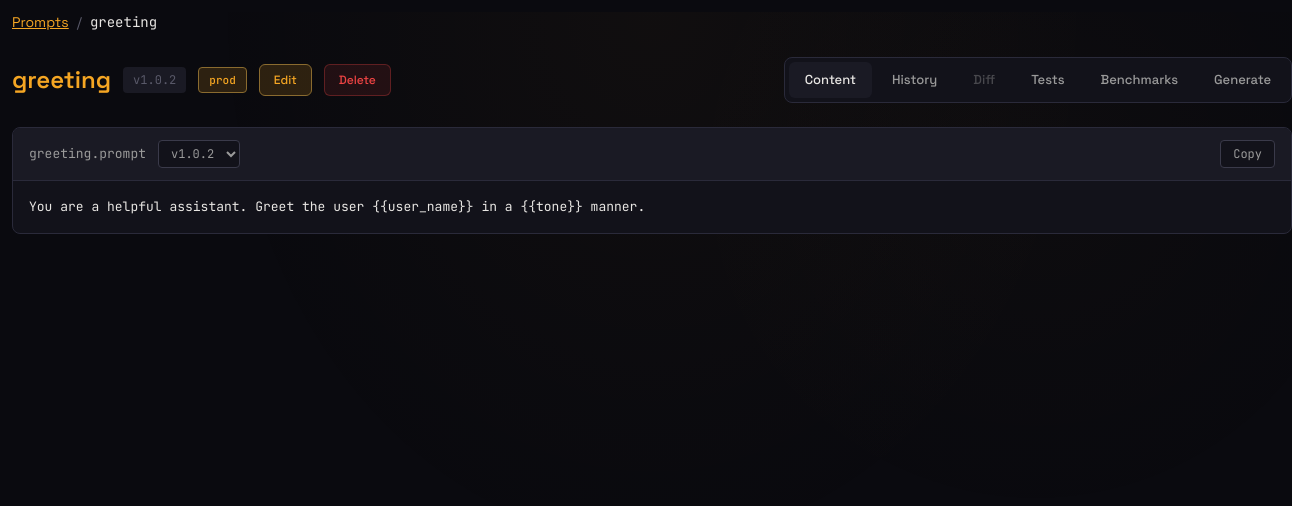
Test case: PromptPage › enables diff tab after selecting two versions
Step 1. Click the button "History" → (915, 80), box x1=876 y1=62 x2=953 y2=98
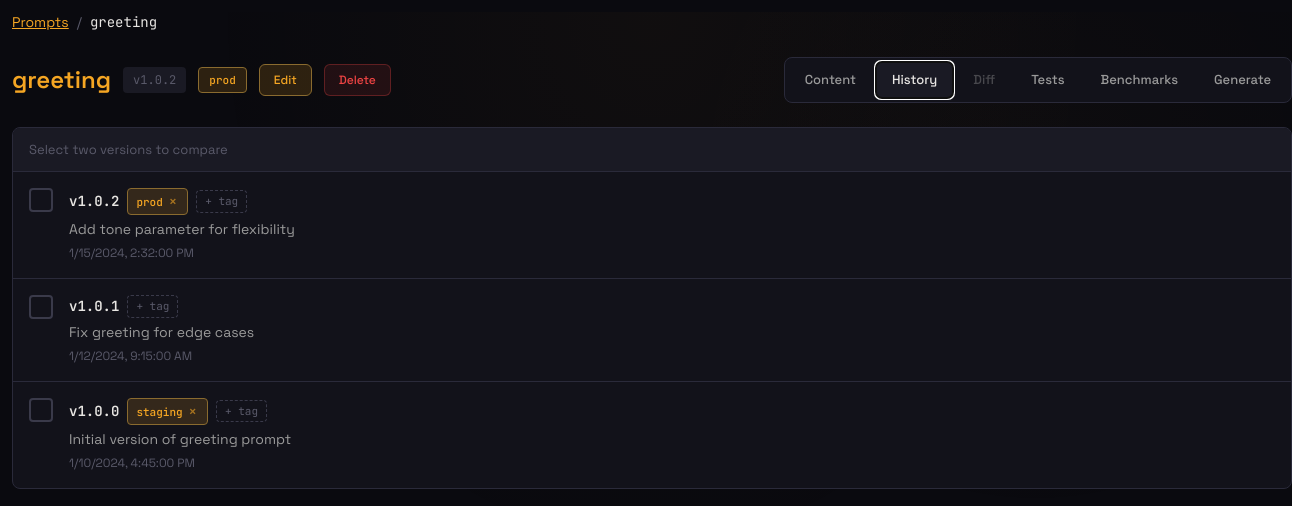
# Select first version
Step 2. Click the text "Add tone parameter for flexibility" → (182, 229), box x1=69 y1=220 x2=295 y2=238
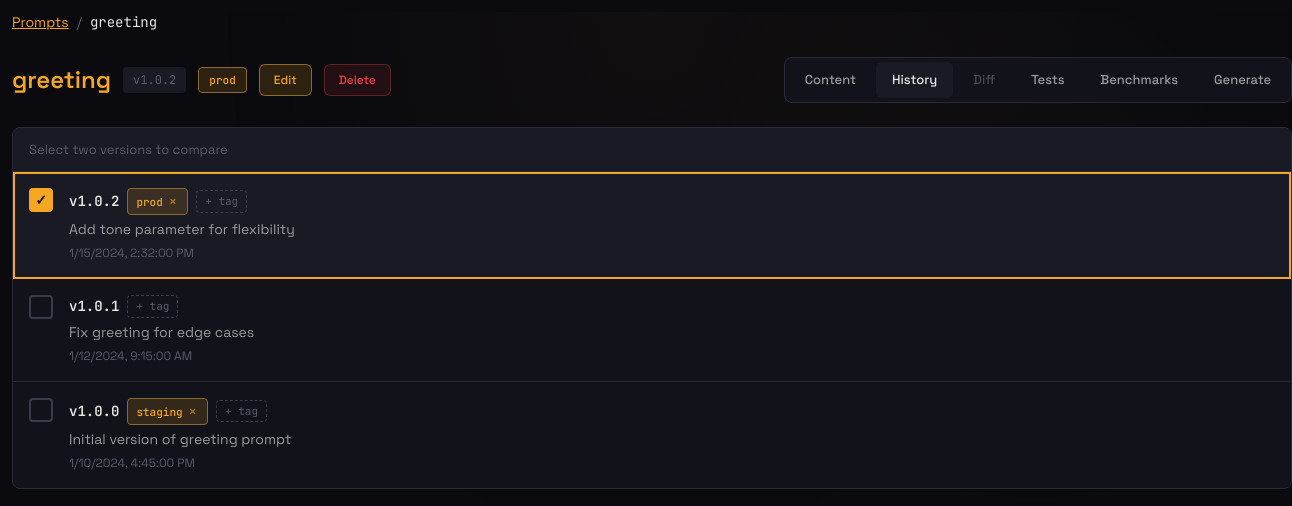
# Select second version
Step 3. Click the text "Fix greeting for edge cases" → (162, 332), box x1=69 y1=322 x2=254 y2=340
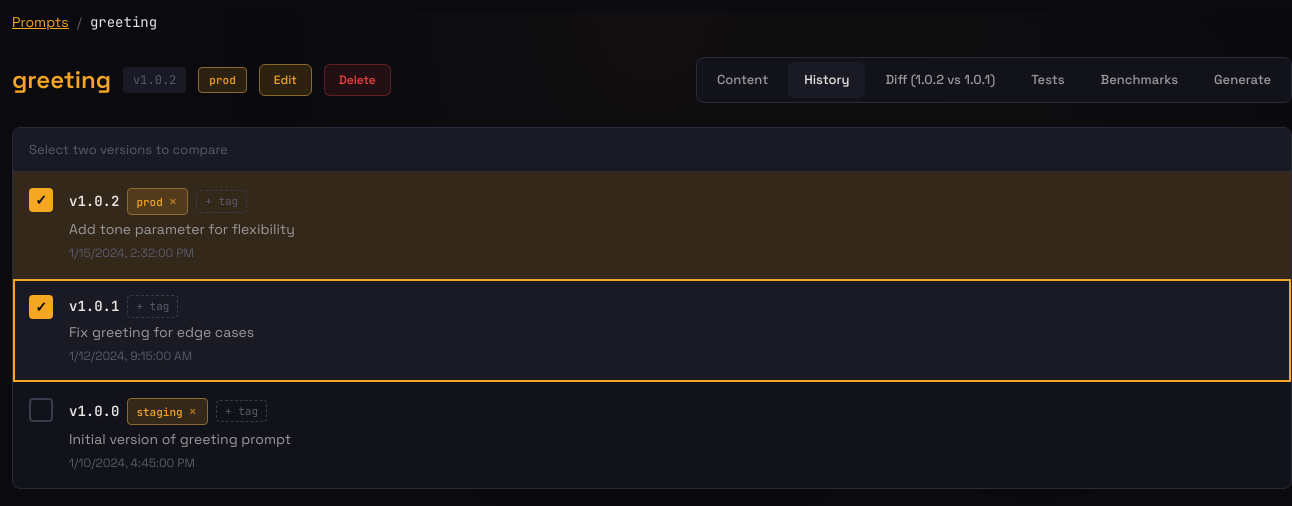
Result: the button "Diff (1.0.2 vs 1.0.1)" is enabled at x1=869 y1=62 x2=1011 y2=98
